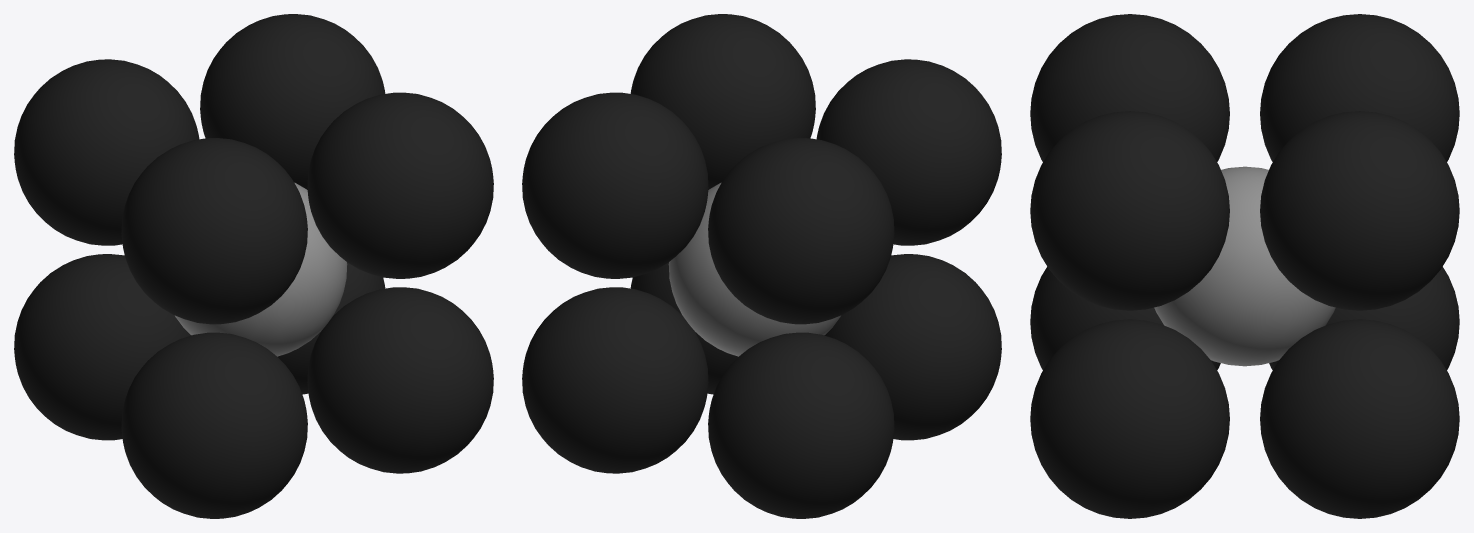
File: solid_state_qn_003.glb
3 views of the same model, side by side, from view 1: azimuth 30°, elevation 25°; view 2: azimuth 150°, elevation 25°; view 3: azimuth 270°, elevation 25° (orthographic). The views are drawn at different scales.
Parts seen in each view (by area): view 1: Icosphere.004, Icosphere.002, Icosphere.006, Icosphere.010, Icosphere.005, Icosphere.001, Icosphere.007, Icosphere.008, Icosphere.003; view 2: Icosphere.005, Icosphere.003, Icosphere.001, Icosphere.007, Icosphere.004, Icosphere.010, Icosphere.006, Icosphere.008, Icosphere.002; view 3: Icosphere.002, Icosphere.003, Icosphere.006, Icosphere.007, Icosphere.004, Icosphere.005, Icosphere.008, Icosphere.001, Icosphere.010.
Boxes of the visible parts, <box> form: Icosphere.004: <box>121,138,307,324</box>; Icosphere.002: <box>307,287,493,473</box>; Icosphere.006: <box>307,92,493,278</box>; Icosphere.010: <box>121,332,307,518</box>; Icosphere.005: <box>14,59,199,245</box>; Icosphere.001: <box>14,254,191,440</box>; Icosphere.007: <box>200,14,385,189</box>; Icosphere.008: <box>175,182,347,356</box>; Icosphere.003: <box>277,262,385,394</box>; Icosphere.005: <box>708,138,894,324</box>; Icosphere.003: <box>522,287,708,473</box>; Icosphere.001: <box>708,332,894,518</box>; Icosphere.007: <box>522,92,708,278</box>; Icosphere.004: <box>816,59,1001,245</box>; Icosphere.010: <box>824,254,1001,440</box>; Icosphere.006: <box>630,14,815,189</box>; Icosphere.008: <box>668,182,840,356</box>; Icosphere.002: <box>630,262,738,394</box>; Icosphere.002: <box>1030,319,1229,518</box>; Icosphere.003: <box>1260,319,1459,518</box>; Icosphere.006: <box>1030,111,1229,310</box>; Icosphere.007: <box>1260,111,1459,310</box>; Icosphere.004: <box>1030,14,1229,161</box>; Icosphere.005: <box>1260,14,1459,161</box>; Icosphere.008: <box>1154,166,1335,366</box>; Icosphere.001: <box>1269,266,1459,370</box>; Icosphere.010: <box>1030,266,1220,370</box>.
Bounding box in the file's own units: 4.3 × 4.3 × 4.3.
Materials: 1 (1 with a texture image).
